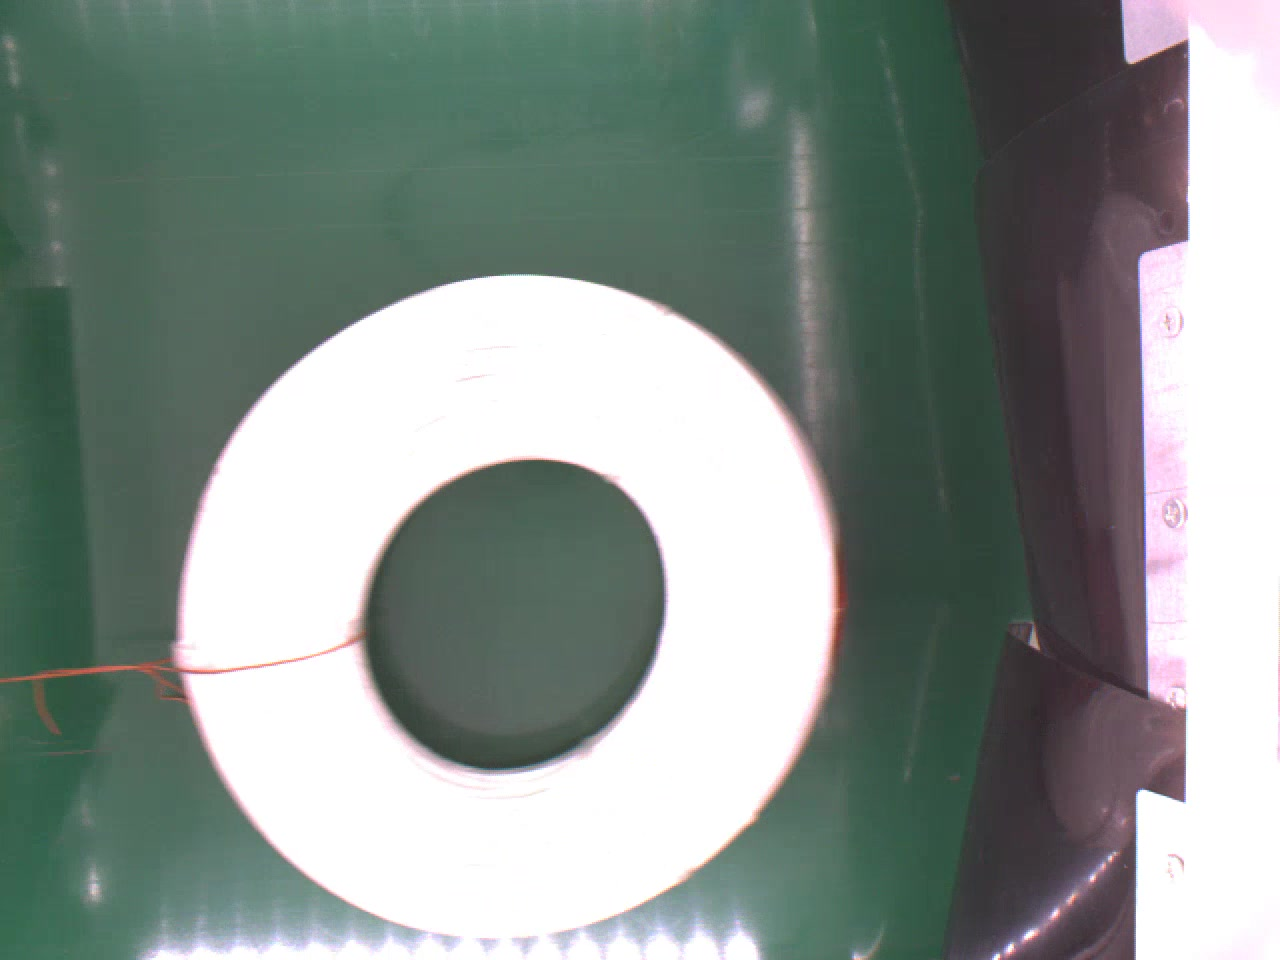white: (168, 258, 850, 931)
